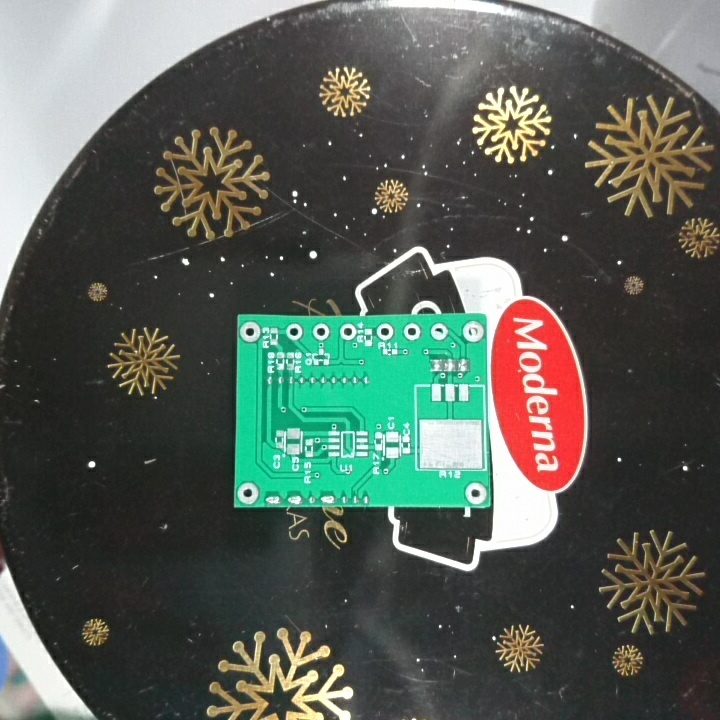F: (235, 479, 262, 506), (462, 481, 490, 505), (460, 319, 486, 344), (239, 320, 262, 343), (282, 321, 305, 343), (401, 320, 423, 342), (374, 320, 396, 342), (428, 321, 450, 342), (337, 322, 357, 341), (311, 323, 331, 342)
P: (261, 492, 283, 508), (283, 491, 302, 507), (317, 491, 336, 507)
